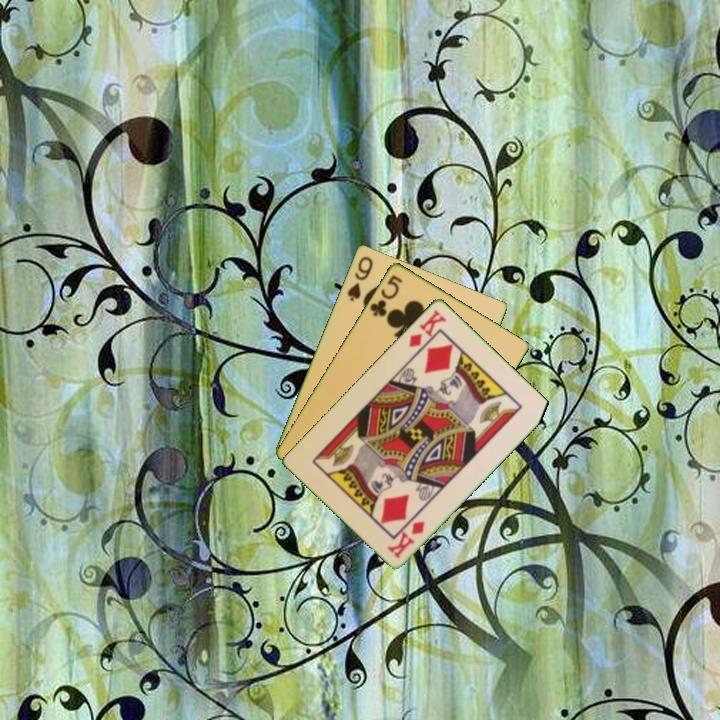5c: (366, 271, 405, 319)
9s: (343, 252, 376, 304)
Kd: (405, 306, 449, 350), (384, 517, 428, 561)
